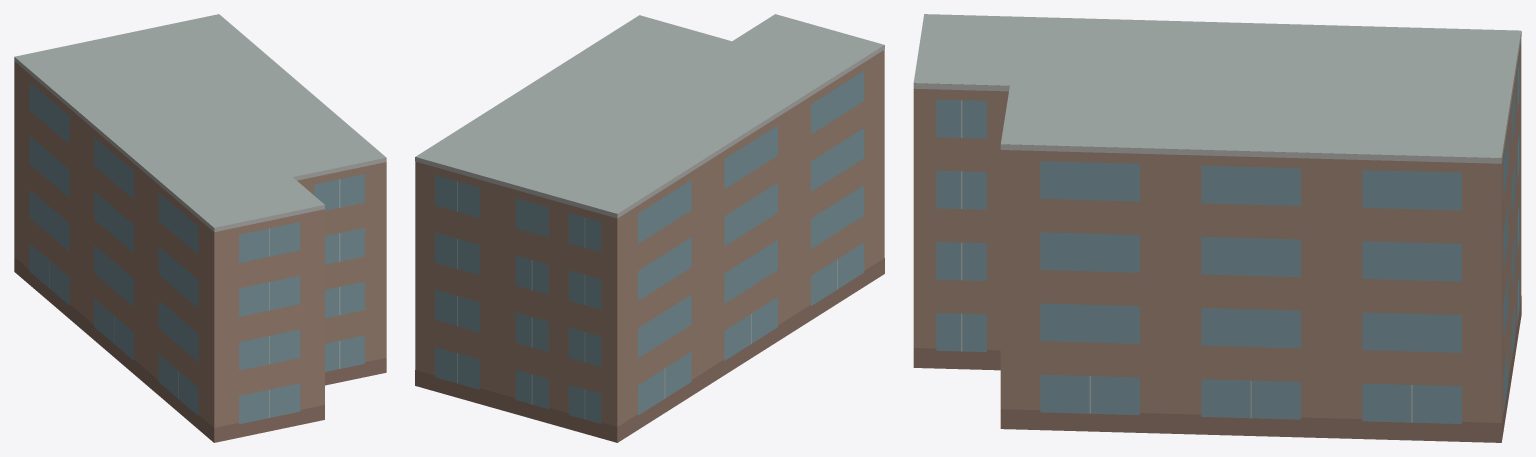
File: residential-7c24e5de-a65f-4100-9356-b58b8a24eec4.glb
3 renders of one model, left to right at view 1: azimuth 30°, elevation 25°; view 2: azimuth 150°, elevation 25°; view 3: azimuth 270°, elevation 25°, orthographic. The views are drawn at different scales.
Visible parts, largest first — view 1: residential-7c24e5de-a65f-4100-9356-b58b8a24eec4.tmp; view 2: residential-7c24e5de-a65f-4100-9356-b58b8a24eec4.tmp; view 3: residential-7c24e5de-a65f-4100-9356-b58b8a24eec4.tmp.
Part boxes in pixels (<box>): residential-7c24e5de-a65f-4100-9356-b58b8a24eec4.tmp: <box>14,14,386,442</box>; residential-7c24e5de-a65f-4100-9356-b58b8a24eec4.tmp: <box>415,14,884,442</box>; residential-7c24e5de-a65f-4100-9356-b58b8a24eec4.tmp: <box>913,14,1521,442</box>.
Bounding box in the file's own units: 13.25 × 12.2 × 23.61.
